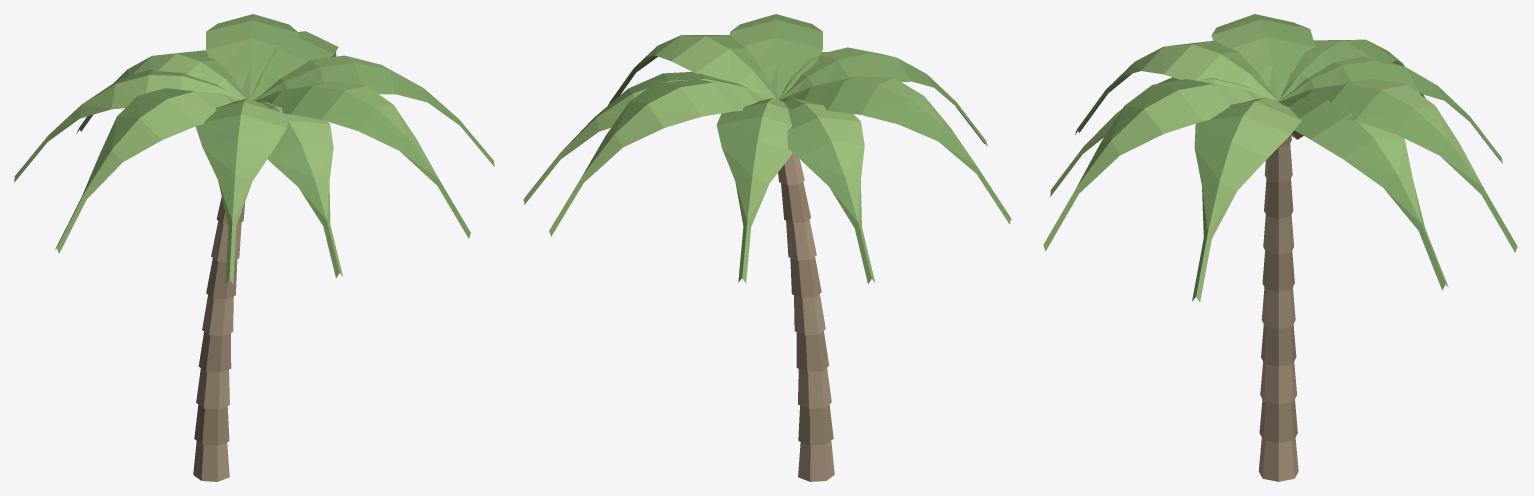
The model's file is palm.gltf.
3 views of the same model, side by side, from view 1: azimuth 30°, elevation 25°; view 2: azimuth 150°, elevation 25°; view 3: azimuth 270°, elevation 25° (orthographic). The views are drawn at different scales.
Parts seen in each view (by area): view 1: palm; view 2: palm; view 3: palm.
Boxes of the visible parts, left/top/right/bottom form: palm: left=14, top=14, right=494, bottom=481; palm: left=523, top=14, right=1011, bottom=481; palm: left=1043, top=14, right=1517, bottom=481.
Size of the model in its own units: 6.13 by 5.55 by 5.61.
